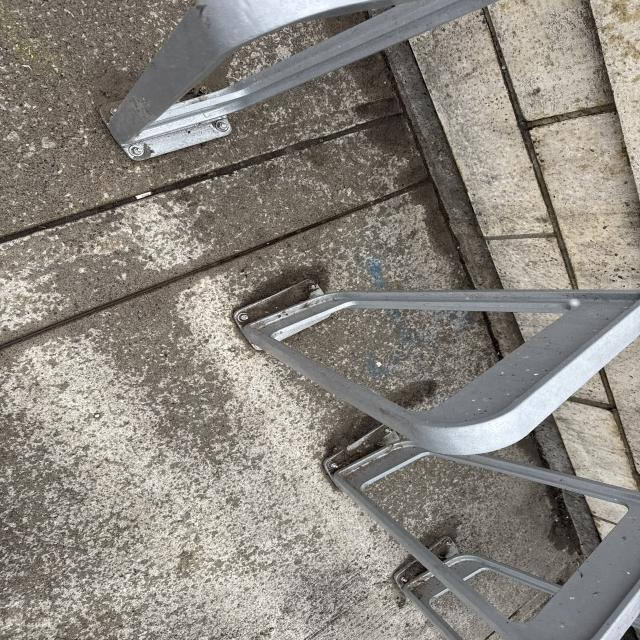Bicycle Rack: (233, 277, 639, 456), (101, 0, 508, 165), (327, 435, 640, 640)
